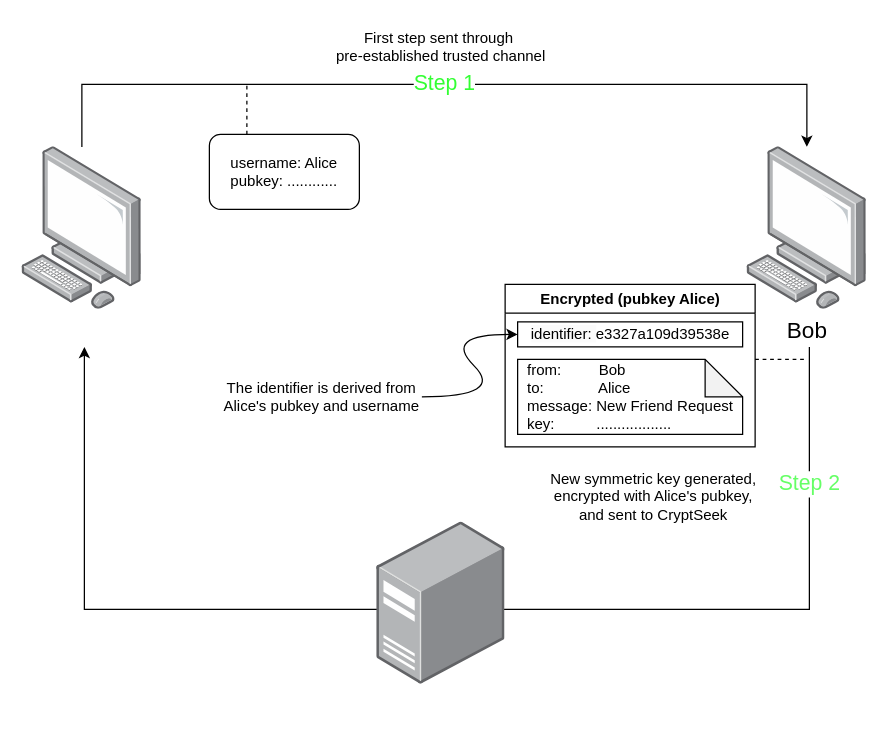
Image size: 888x741. Some labels were removed from this diagram. Each missing label, with the centre of its shape:
"Alice" belongs at point (81, 227).
"CryptSeek Server" belongs at point (440, 602).
